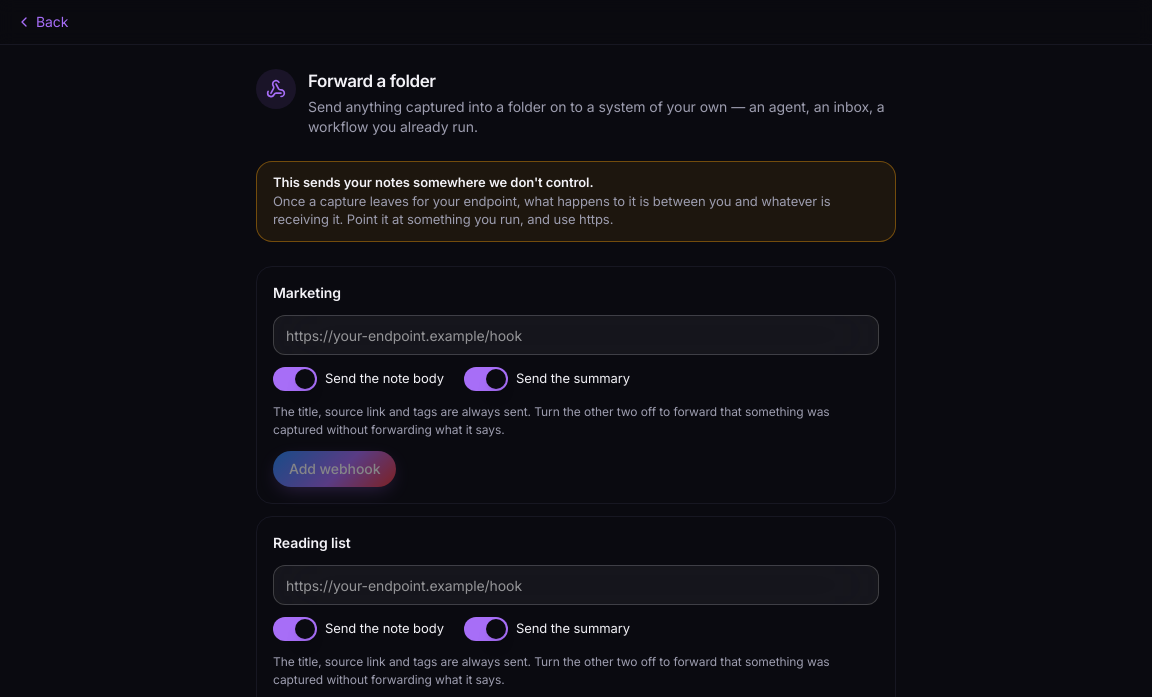
it: Forward a folder › refuses to save an address our servers could never reach
The width and height of the screenshot is (1152, 697).
Type "http://localhost:3000/hook" into the field named "Webhook URL for Marketing" at (576, 335), box [273,315,879,355]
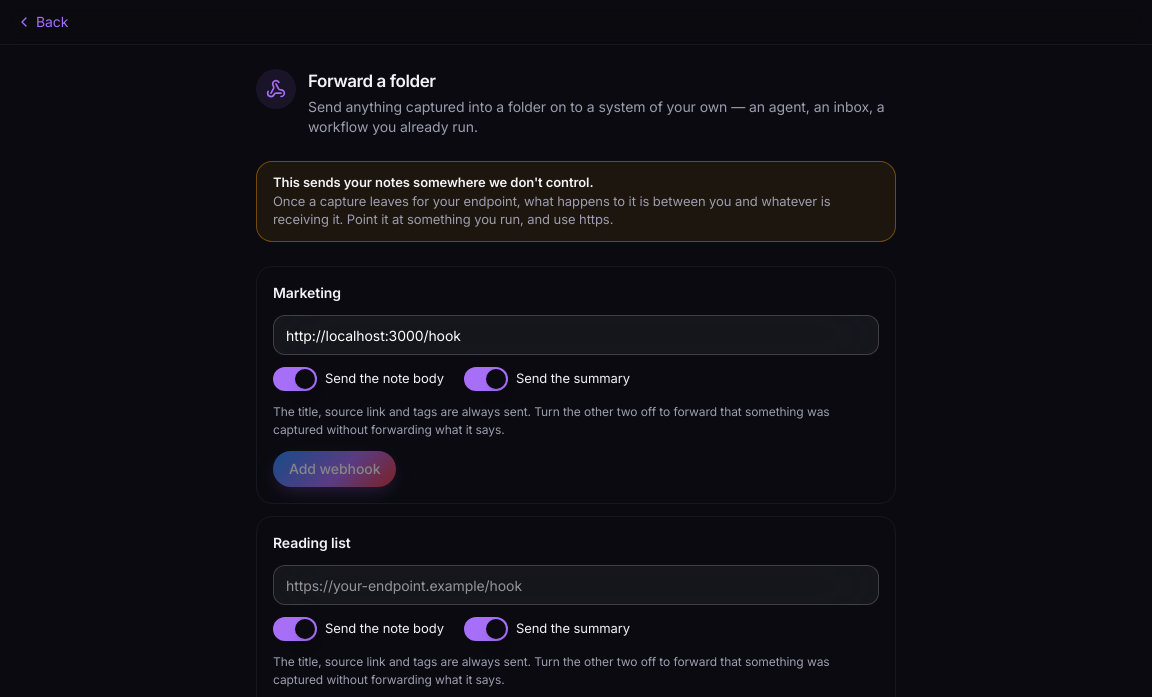
Leave the field named "Webhook URL for Marketing", box [273,315,879,355]
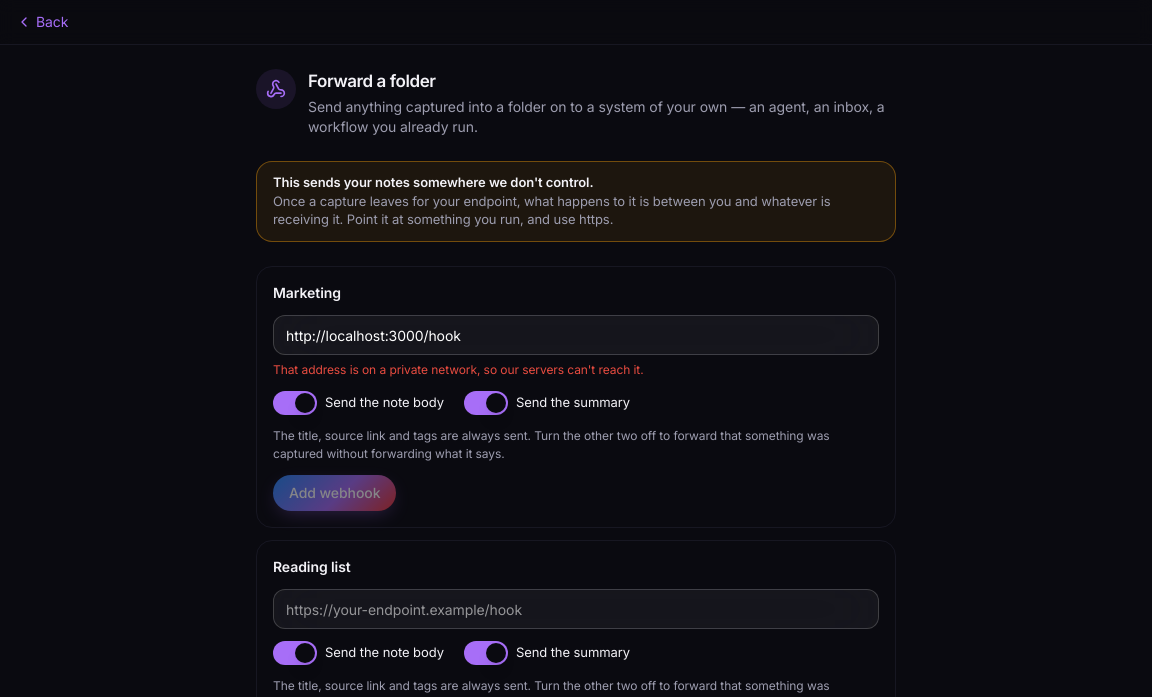
Expected: the button "Add webhook" is disabled, [273,475,396,511]
Result: the text "private network" is shown at [273,362,644,377]
